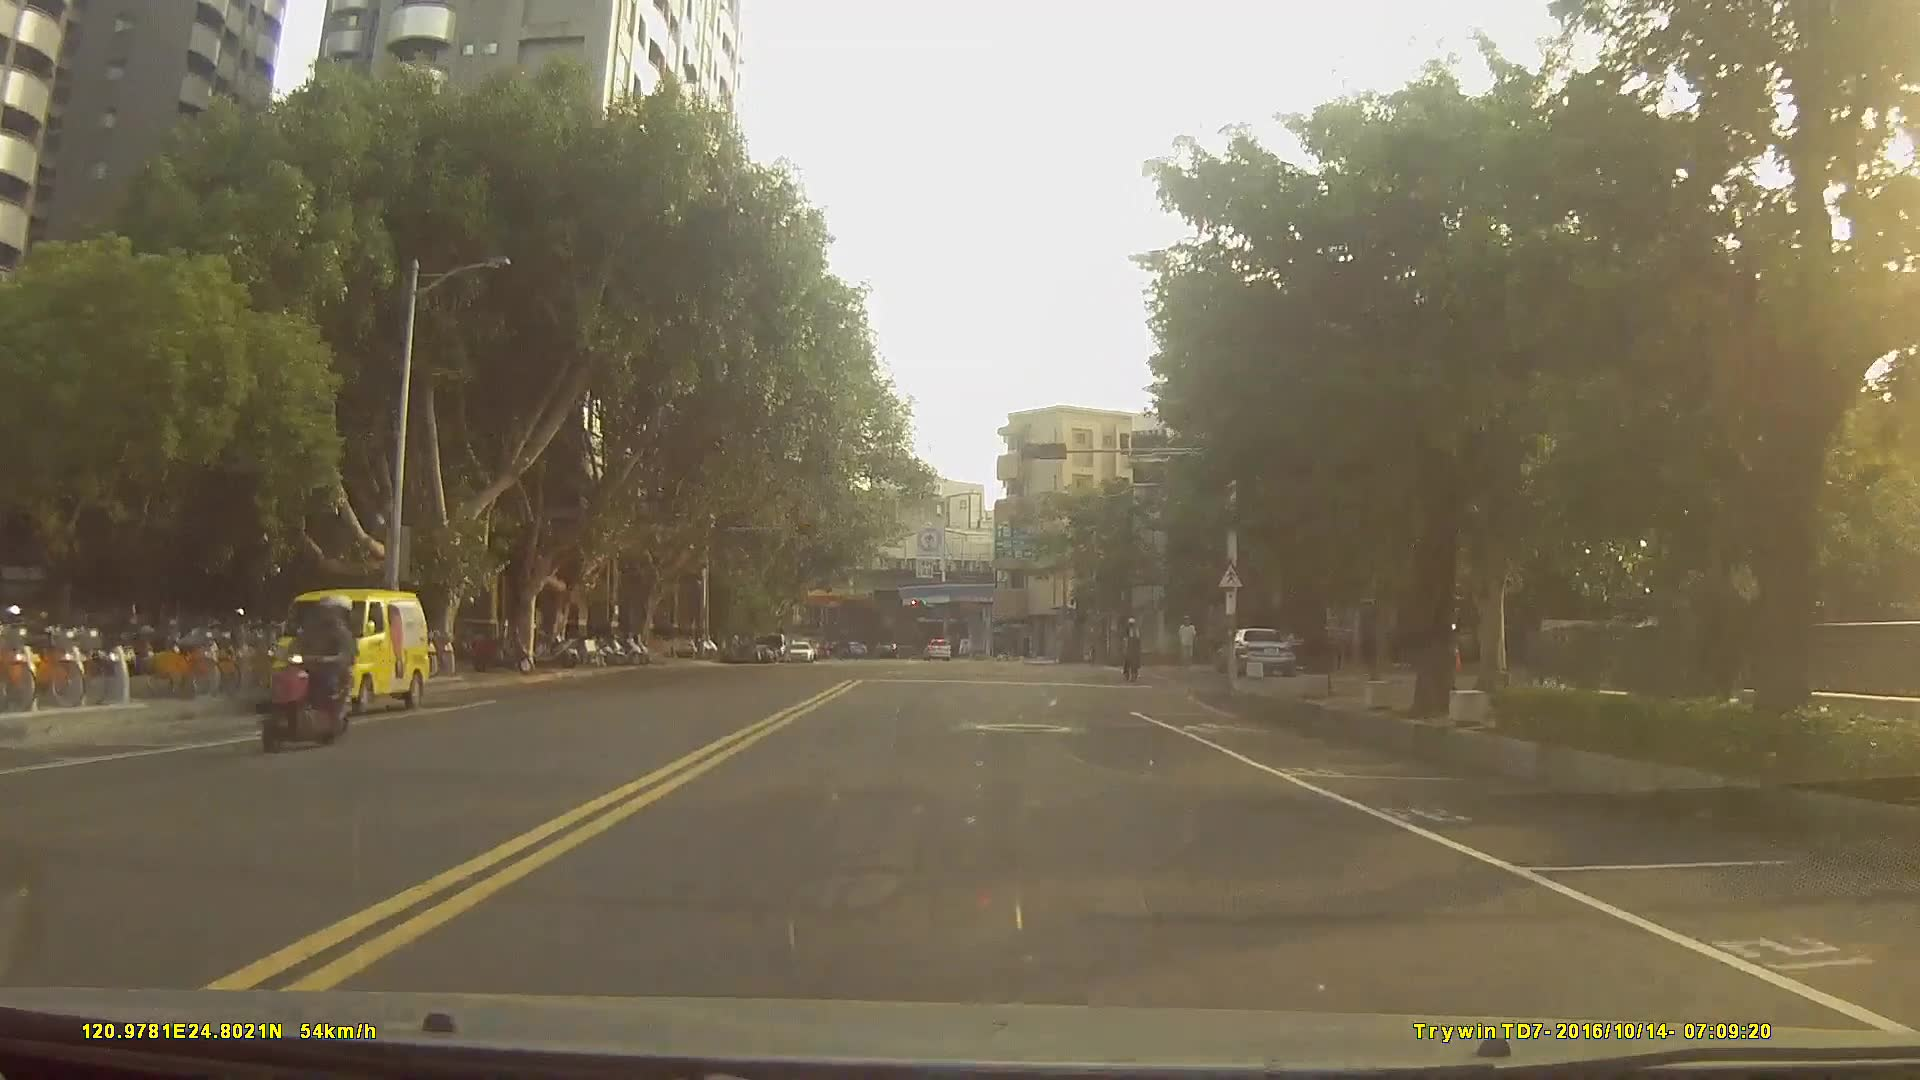pedestrian: (1179, 617, 1201, 681)
rider: (257, 595, 364, 754), (1120, 618, 1146, 680)
vehicle: (1211, 627, 1298, 677), (925, 636, 952, 661), (785, 639, 816, 661)
